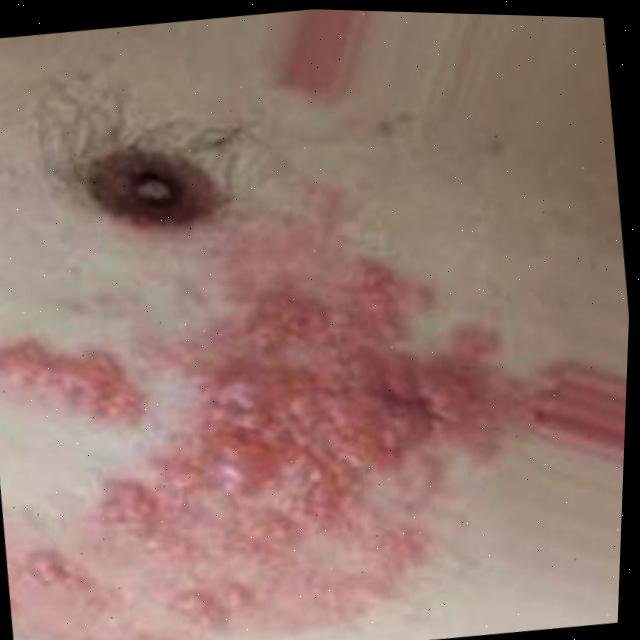Shingles: (0, 258, 534, 640)
